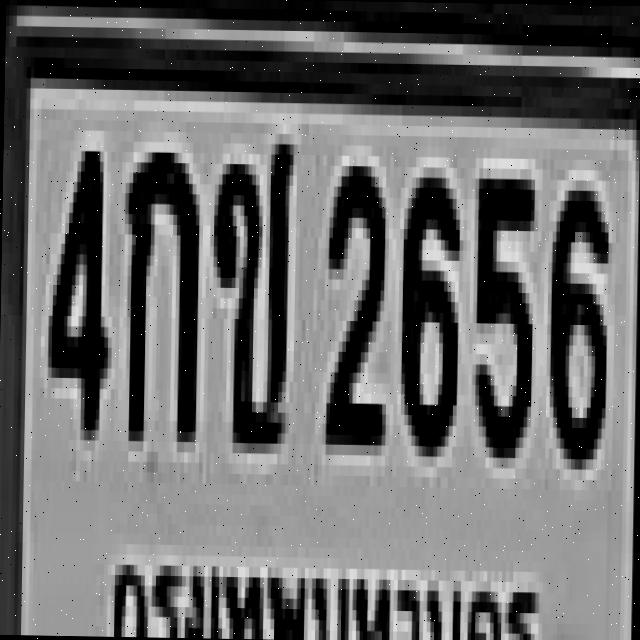10GorGai: (120, 141, 196, 431)
19ChorChang: (206, 122, 290, 443)
2: (322, 155, 382, 434)
4: (42, 134, 108, 424)
5: (471, 163, 532, 442)
6: (544, 180, 606, 459), (396, 167, 457, 446)
